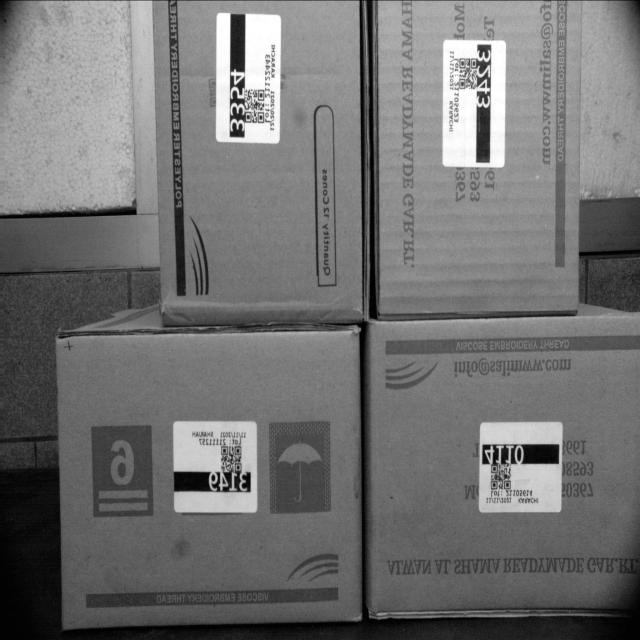cardboxes: (56, 331, 365, 626), (367, 311, 640, 622), (148, 0, 361, 332), (371, 0, 584, 321)
